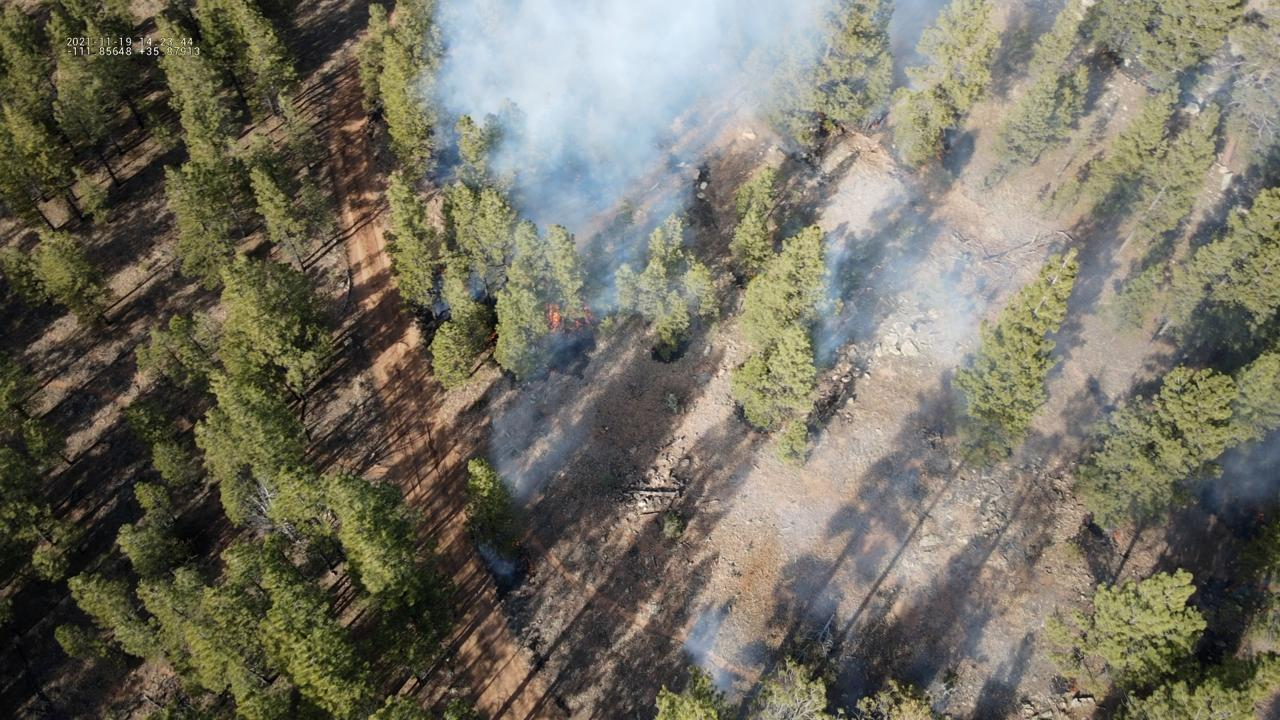fire: (544, 301, 561, 336), (584, 303, 598, 325), (487, 331, 497, 343), (574, 319, 581, 330)
smoke: (404, 0, 995, 505), (812, 210, 986, 372), (1201, 427, 1280, 527), (681, 611, 736, 699), (477, 545, 518, 587)
